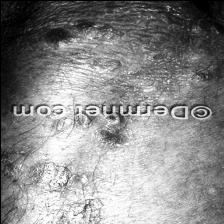Non-Cancerous Skin Condition: (14, 0, 224, 100), (0, 115, 134, 224)
